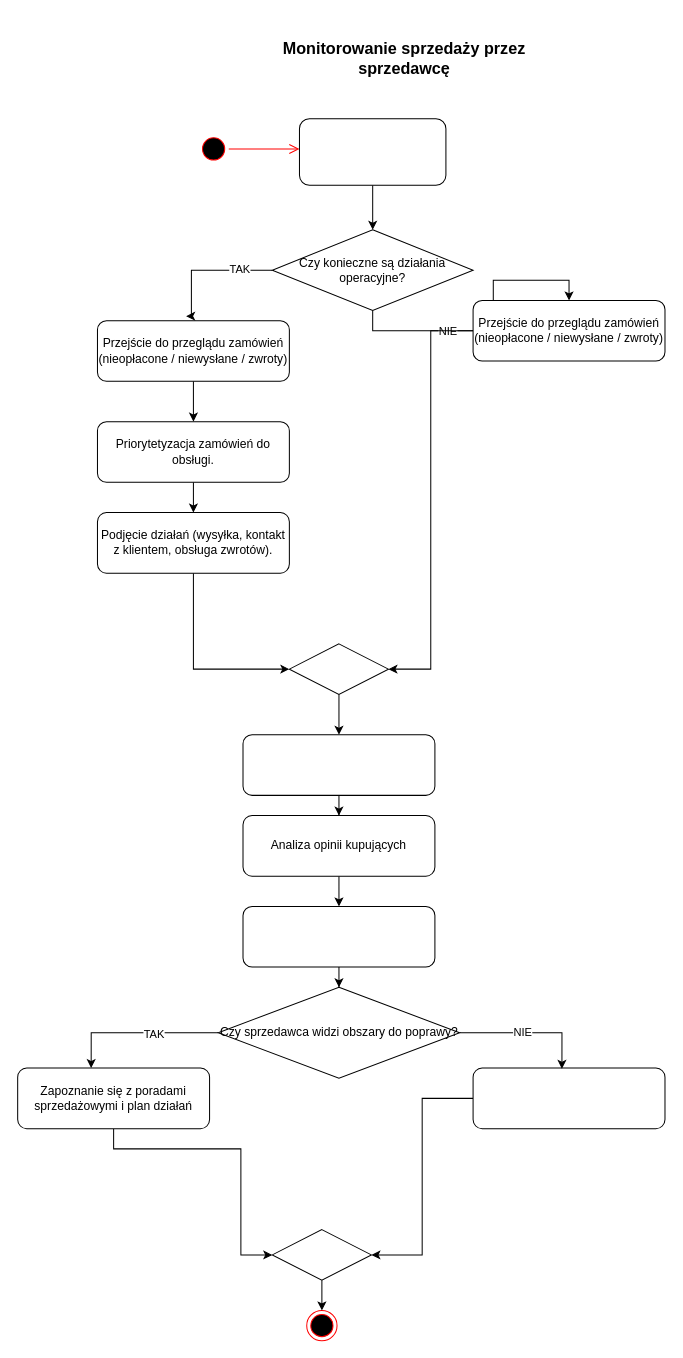
Some shapes in this 683 by 1358 pixel diagram are drawn without their labels. The shapes that lost their labels are listed below. From the top down, each one's centre as x and y in pixels, then its label:
[372,151]: Sprzedawca sprawdza ogólną sytuację sprzedażową(dashboard)
[338,764]: Analiza jakości sprzedaży (ocena, aspekty)
[338,936]: Analiza rankingu ofert i wykresu sprzedaży w czasie
[568,1098]: Zakończenie sesji monitorowania.
